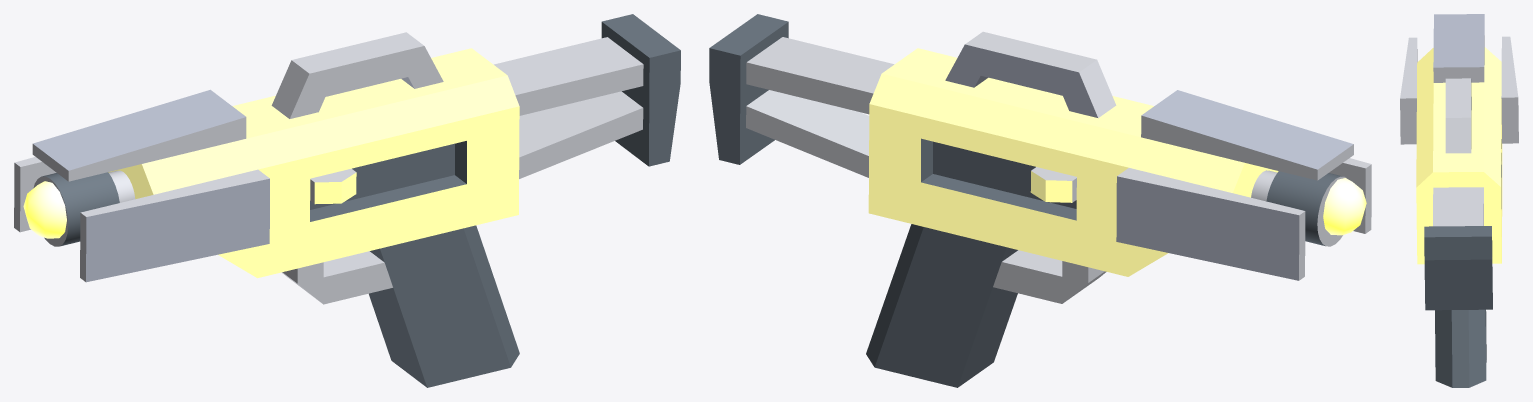
File: pistol.glb
3 renders of one model, left to right at view 1: azimuth 30°, elevation 25°; view 2: azimuth 150°, elevation 25°; view 3: azimuth 270°, elevation 25°, orthographic. The views are drawn at different scales.
Visible parts, largest first — view 1: Mesh blasterN_2, Mesh blasterN_1, Mesh_blasterN, Mesh blasterN_3, Sphere; view 2: Mesh blasterN_2, Mesh_blasterN, Mesh blasterN_1, Mesh blasterN_3, Sphere; view 3: Mesh blasterN_2, Mesh_blasterN, Mesh blasterN_1, Mesh blasterN_3.
Part boxes in pixels (x1,y1,x2,y2): Mesh blasterN_2: [108, 48, 519, 278]; Mesh blasterN_1: [14, 32, 643, 304]; Mesh_blasterN: [42, 14, 680, 387]; Mesh blasterN_3: [33, 77, 414, 282]; Sphere: [23, 181, 66, 238]; Mesh blasterN_2: [868, 48, 1278, 276]; Mesh_blasterN: [709, 14, 1342, 387]; Mesh blasterN_1: [746, 31, 1371, 303]; Mesh blasterN_3: [945, 44, 1353, 280]; Sphere: [1323, 178, 1366, 235]; Mesh blasterN_2: [1416, 47, 1502, 264]; Mesh_blasterN: [1424, 139, 1501, 387]; Mesh blasterN_1: [1400, 35, 1518, 226]; Mesh blasterN_3: [1433, 14, 1484, 148].
Size of the model in its own units: 0.6052 by 0.308 by 0.1407.
